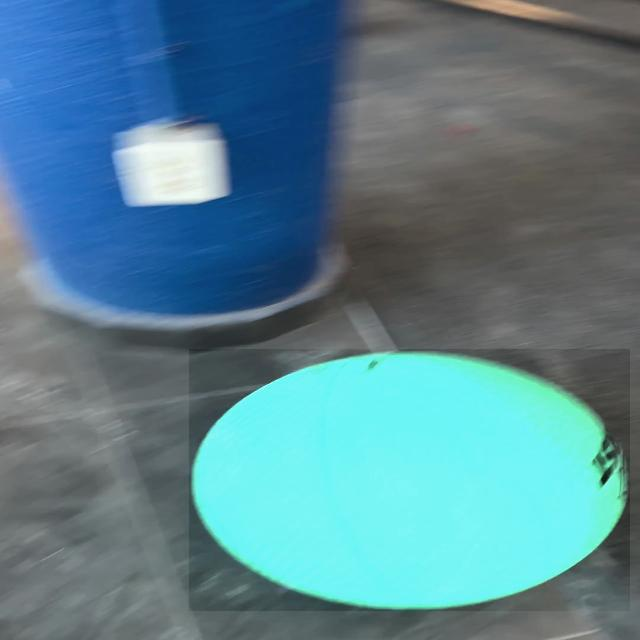Algae: (189, 349, 630, 611)
